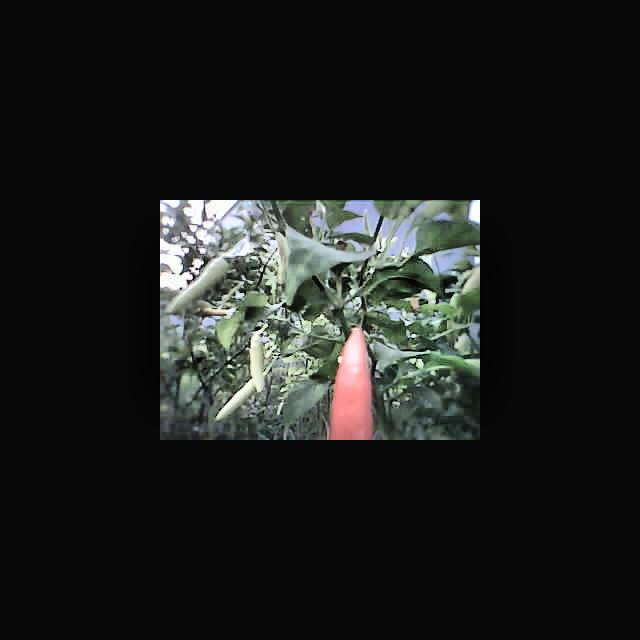Cabai: (329, 327, 374, 440)
